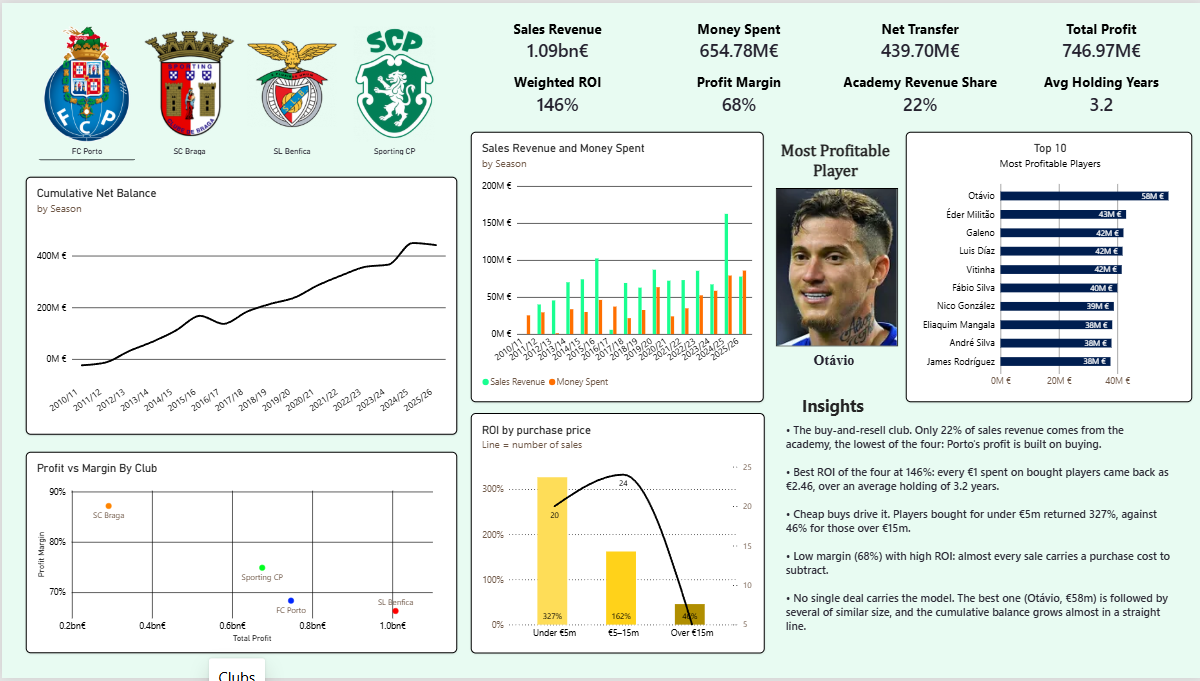

The page's visual inventory and layout, read from the dashboard file:
{"tool":"powerbi","page":{"name":"Clubs","canvas":[1920,1080],"ordinal":1},"visuals":[{"type":"advancedSlicerVisual","title":"Club","fields":{"Values":["clubs.name"]},"box":[37.5,35,690.7,216.3],"z":0},{"type":"clusteredColumnChart","fields":{"Category":["Dates.Season"],"Y":["_Measures.Sales Revenue","_Measures.Money Spent"]},"box":[750,205,468.5,433.2],"z":1000},{"type":"lineChart","fields":{"Category":["Dates.Season"],"Y":["_Measures.Cumulative Net Balance"]},"box":[37.5,277.5,690,412.5],"z":2000},{"type":"cardVisual","fields":{"Data":["_Measures.Sales Revenue","_Measures.Money Spent","_Measures.Net Transfer Balance","_Measures.Total Profit","_Measures.Weighted ROI","_Measures.Profit Margin","_Measures.Academy Revenue Share","_Measures.Avg Holding Years"]},"box":[748.6,22.9,1154.3,165.7],"z":3000},{"type":"scatterChart","title":"Profit vs Margin By Club","fields":{"Category":["clubs.name"],"Series":["clubs.name"],"X":["_Measures.Total Profit"],"Y":["_Measures.Profit Margin"]},"box":[37.5,717.5,690,322.5],"z":4000},{"type":"lineClusteredColumnComboChart","title":"ROI by purchase price","fields":{"Category":["transfers.buy_bracket"],"Y":["_Measures.Weighted ROI"],"Y2":["_Measures.Sales Count"]},"box":[750,655,470,385],"z":5000},{"type":"clusteredBarChart","title":"Top 10","fields":{"Category":["players.player_label"],"Y":["_Measures.Total Profit"]},"box":[1445,205,458.8,432.5],"z":6000},{"type":"image","box":[1238.3,295.8,195.8,253.3],"z":7000},{"type":"textbox","box":[1232.7,222.7,202.7,64.5],"z":8000},{"type":"cardVisual","fields":{"Data":["_Measures.Top Player Name"]},"box":[1230.9,532.7,202.5,80],"z":9000},{"type":"cardVisual","fields":{"Data":["_Measures.Club Comment"]},"box":[1238.3,595,650,485],"z":10000},{"type":"textbox","box":[1280,626.7,568.3,75],"z":11000}]}

Visuals, with their boxes in screenshot pixels (x1, y1, x2, y2), scaled from the page's 1920x1080 canvas onto the 1200x681 screenshot:
"Club" advancedSlicerVisual: detection(23, 22, 455, 158)
clusteredColumnChart - Dates.Season x _Measures.Sales Revenue: detection(469, 129, 762, 402)
lineChart - Dates.Season x _Measures.Cumulative Net Balance: detection(23, 175, 455, 435)
cardVisual - _Measures.Sales Revenue x _Measures.Money Spent: detection(468, 14, 1189, 119)
"Profit vs Margin By Club" scatterChart: detection(23, 452, 455, 656)
"ROI by purchase price" lineClusteredColumnComboChart: detection(469, 413, 762, 656)
"Top 10" clusteredBarChart: detection(903, 129, 1190, 402)
image: detection(774, 187, 896, 346)
textbox: detection(770, 140, 897, 181)
cardVisual - _Measures.Top Player Name: detection(769, 336, 896, 386)
cardVisual - _Measures.Club Comment: detection(774, 375, 1180, 680)
textbox: detection(800, 395, 1155, 442)
